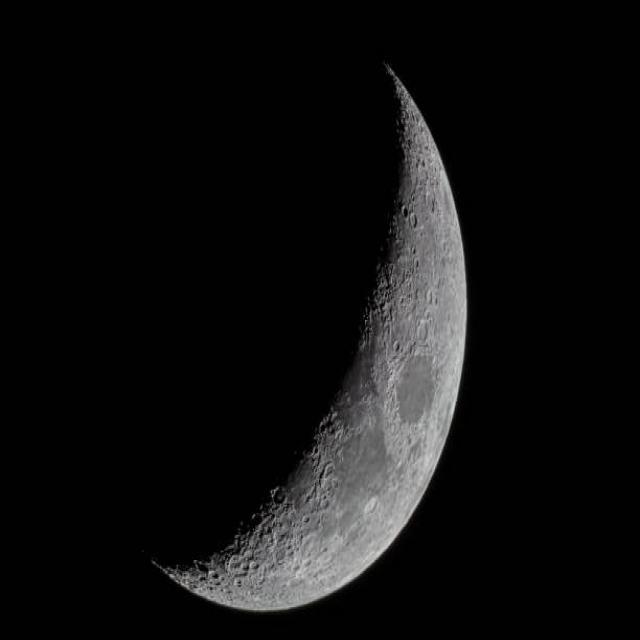moon: (93, 16, 470, 622)
